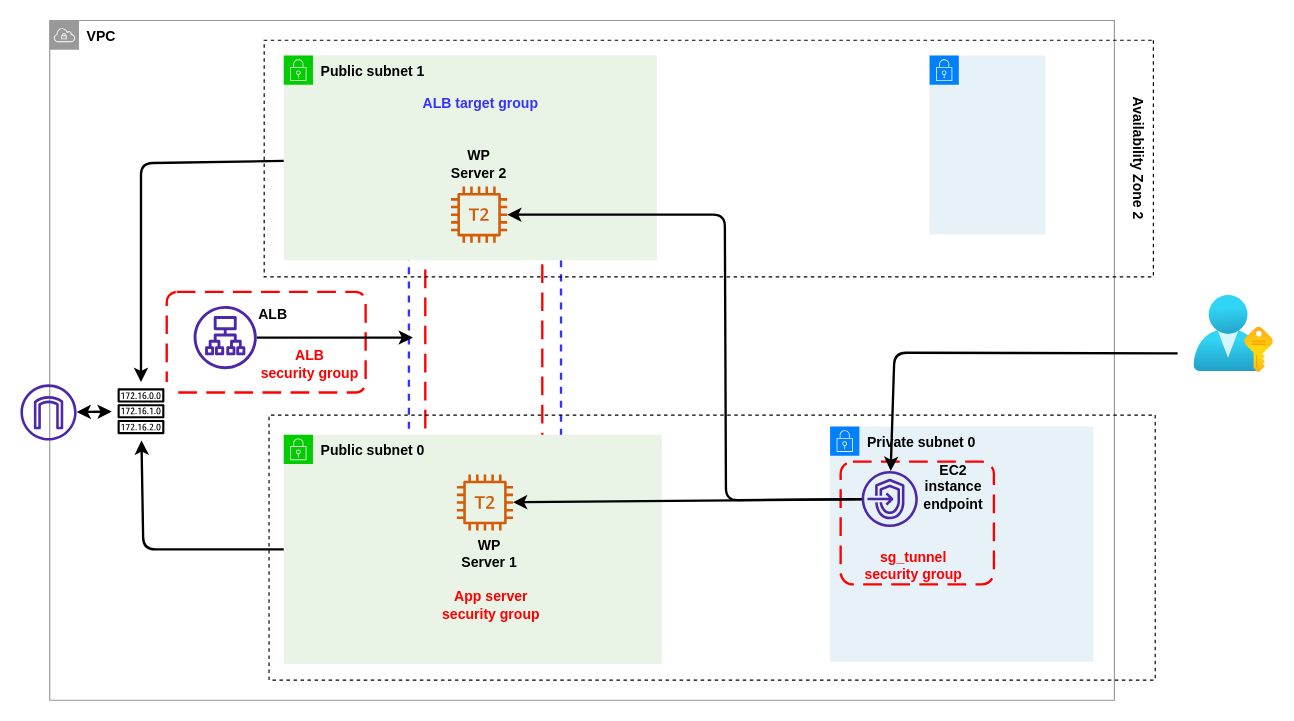
This 1294x721 diagram has some shape labels left out. The shapes that lost their labels are listed below. From the top down, each one's box as (x1, y1, x2, y2) in pixels, then its label:
(928, 54, 1045, 235): Private subnet 1
(111, 381, 170, 441): Route table
(268, 414, 1155, 680): Availability Zone 1
